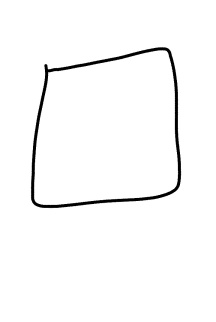Square: (26, 44, 186, 211)
